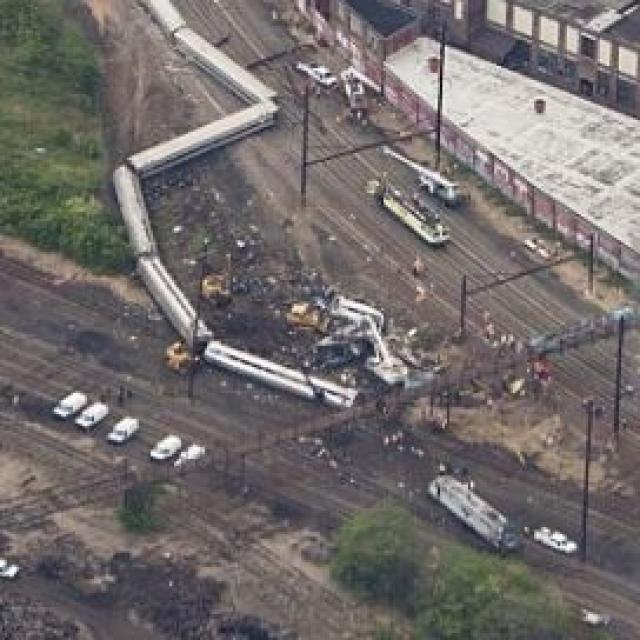traffic_incident: (108, 5, 356, 407)
